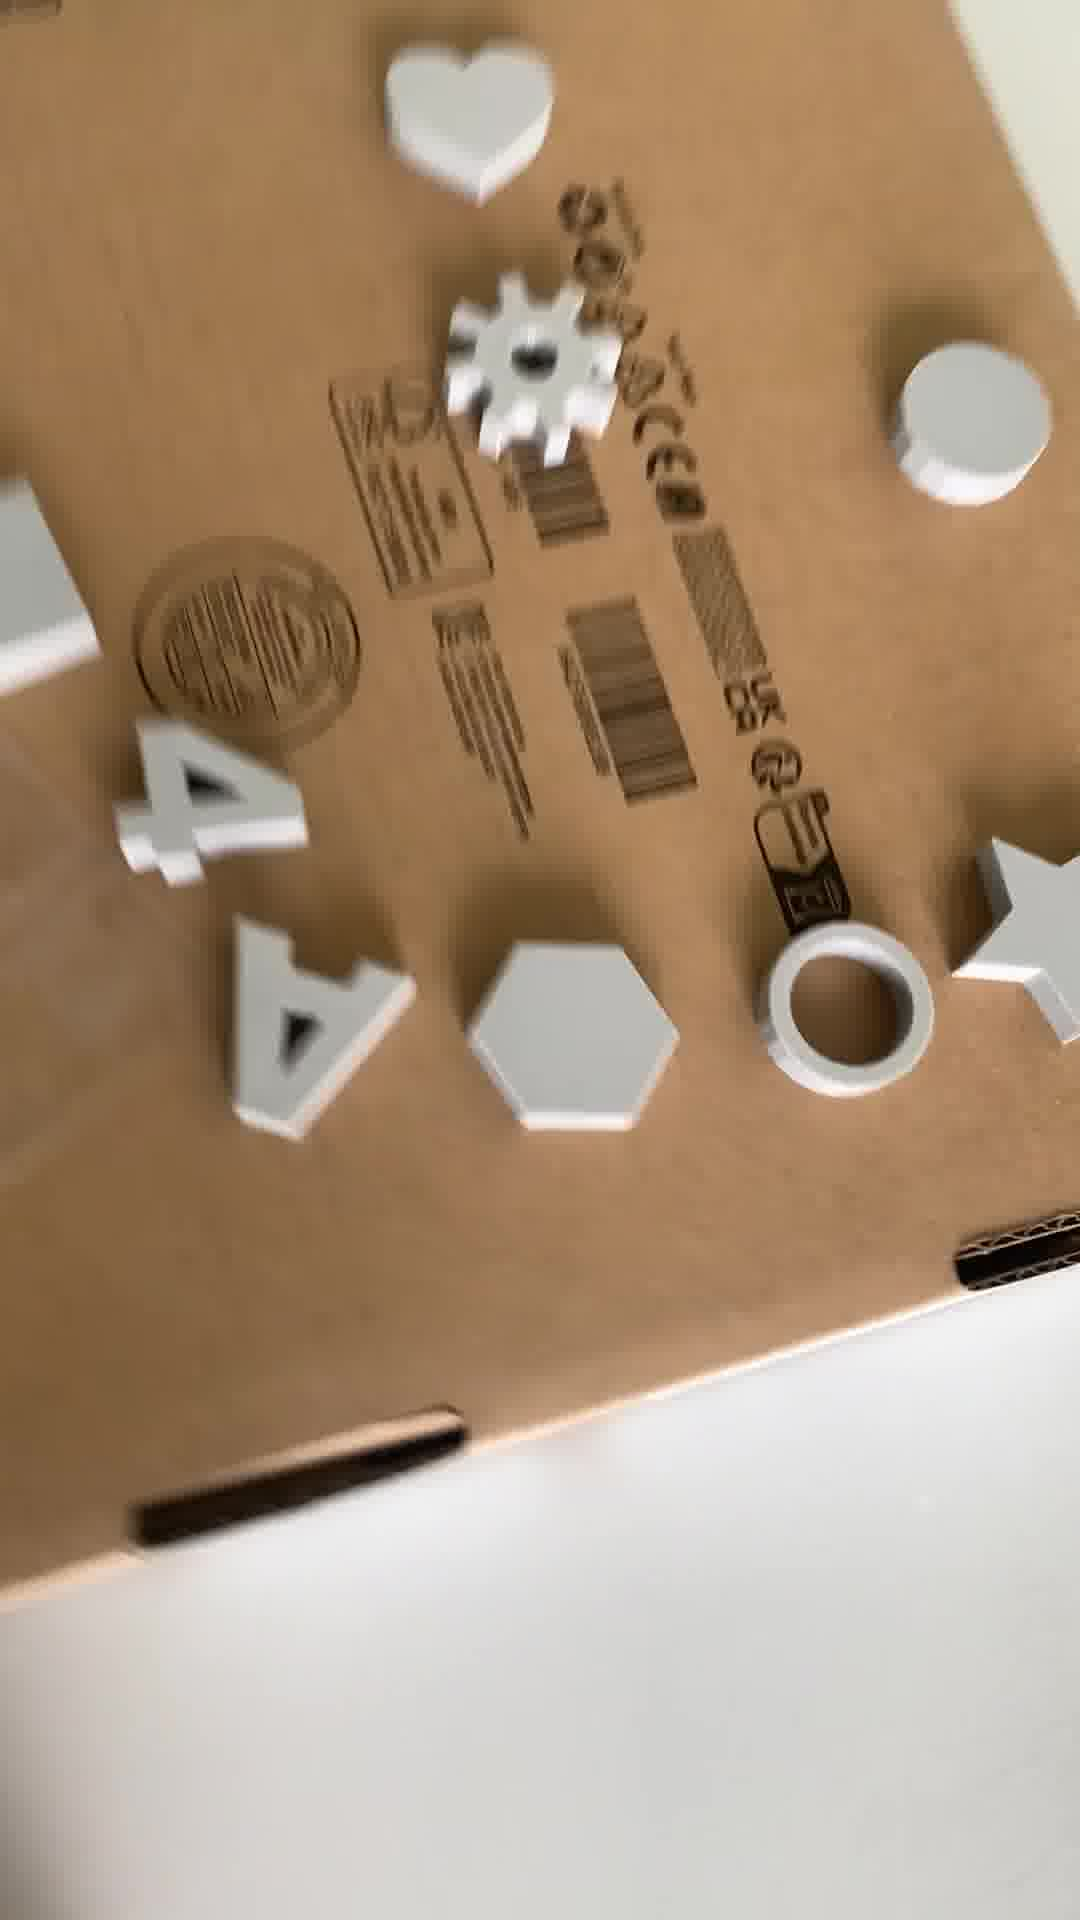Gray A-letter: (218, 910, 423, 1145)
Gray circle: (886, 338, 1055, 524)
Gray four: (115, 704, 313, 891)
Gray gear: (419, 273, 626, 459)
Gray heart: (368, 55, 568, 200)
Gray hexagon: (465, 928, 688, 1150)
Gray ring: (758, 914, 939, 1106)
Gray square: (1, 450, 131, 724)
Gray star: (945, 829, 1080, 1062)
